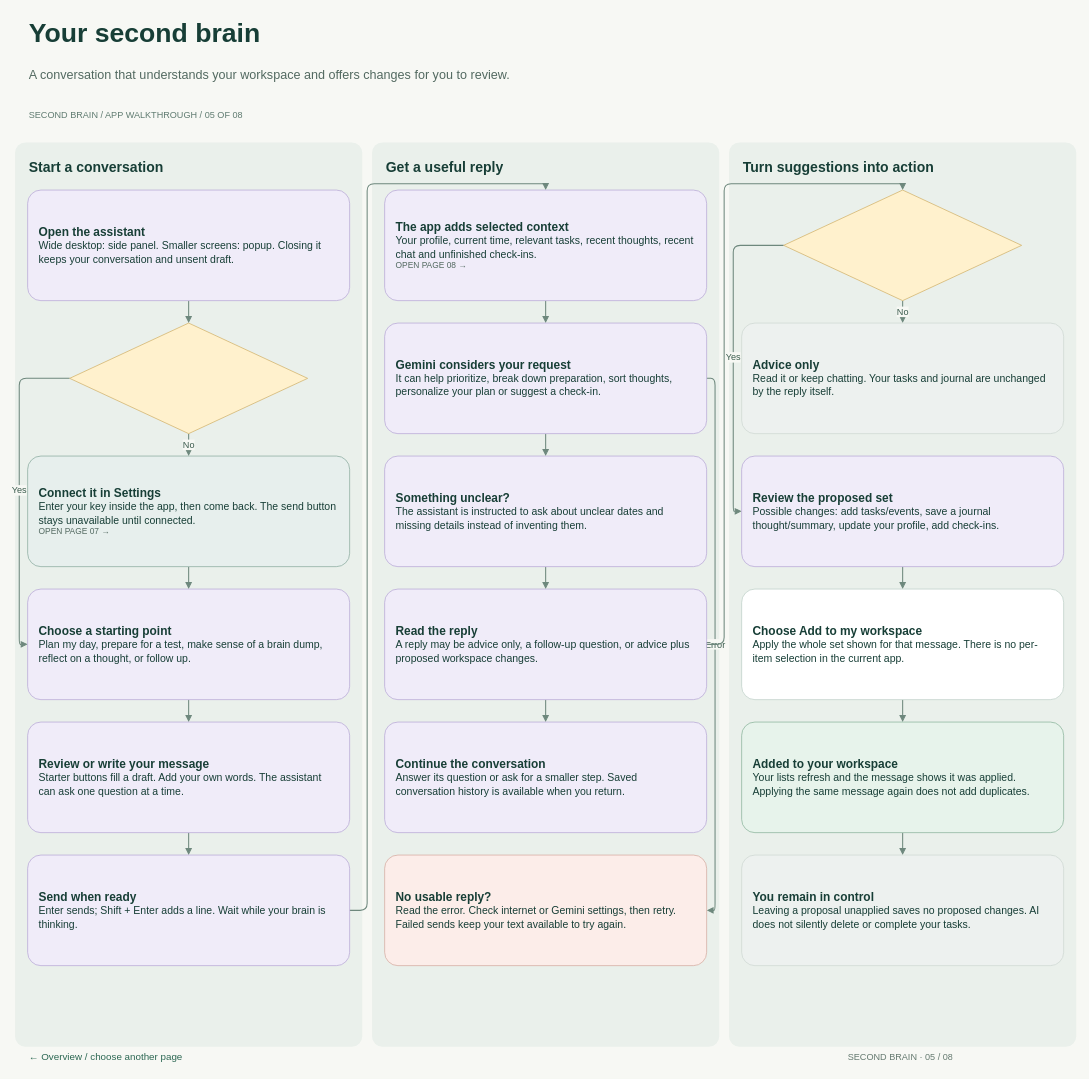
Image size: 1089x1079. Some labels were removed from this diagram. The centre of each missing label's shape, as x and y in pixels:
"Does the reply propose changes?" goes at (x=902, y=245).
"Gemini connected?" goes at (x=188, y=378).
